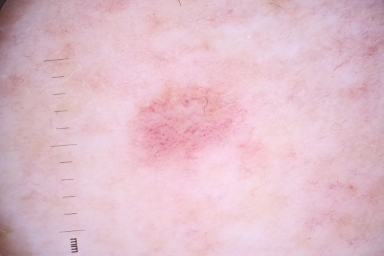melanoma: (125, 80, 247, 165)
